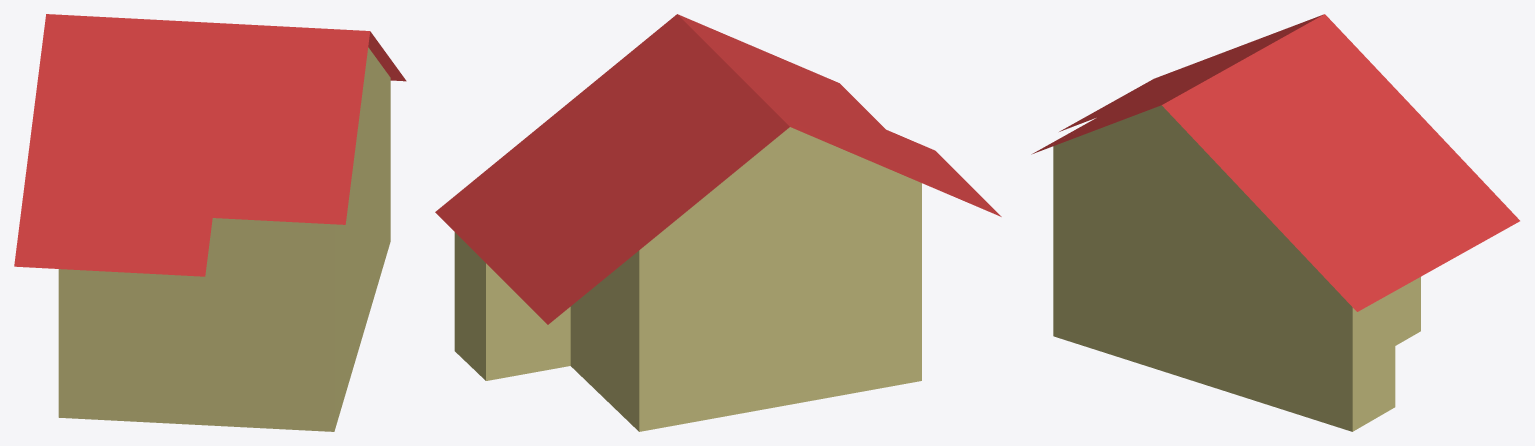
3 renders of one model, left to right at view 1: azimuth 30°, elevation 25°; view 2: azimuth 150°, elevation 25°; view 3: azimuth 270°, elevation 25°, orthographic. The views are drawn at different scales.
Bounding box in the file's own units: 17.11 × 17 × 10.41.
